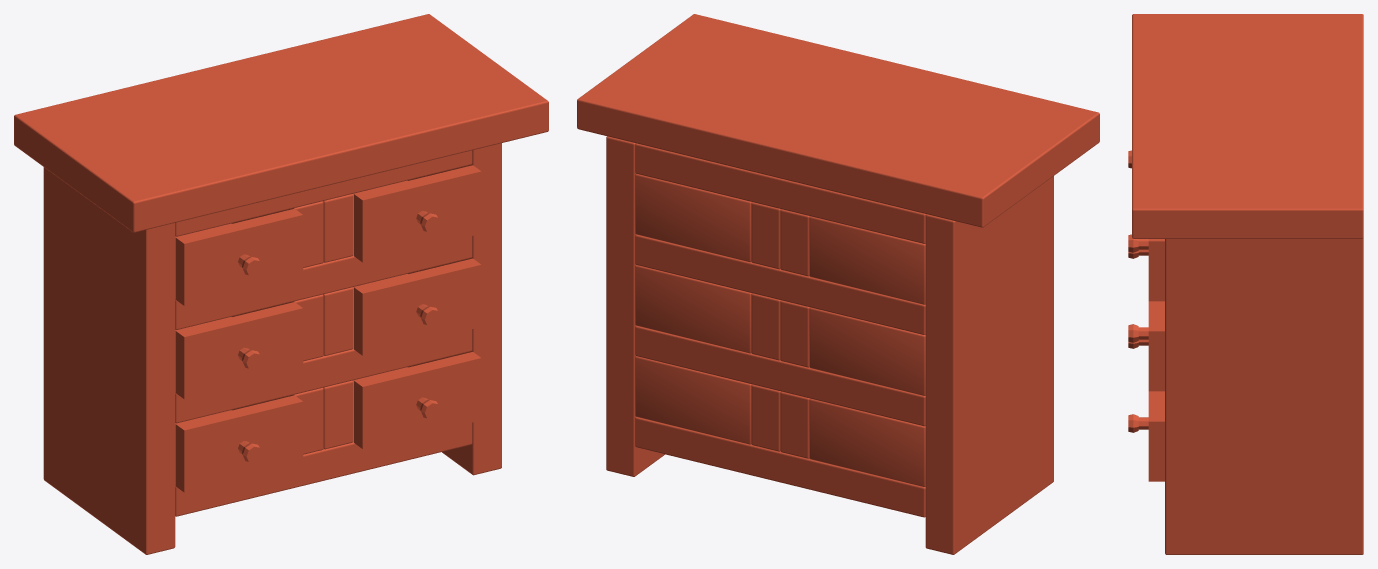
File: Cekmece.fbx
The picture shows the model from 3 angles, left to right: view 1: azimuth 30°, elevation 25°; view 2: azimuth 150°, elevation 25°; view 3: azimuth 270°, elevation 25°; orthographic projection. The views are drawn at different scales.
Parts seen in each view (by area): view 1: Cekmece; view 2: Cekmece; view 3: Cekmece.
Part boxes in pixels (x1=…): Cekmece: x1=14, y1=14, x2=548, y2=554; Cekmece: x1=577, y1=14, x2=1099, y2=554; Cekmece: x1=1128, y1=14, x2=1363, y2=554.
Size of the model in its own units: 1.4 by 1.2 by 0.7115.
